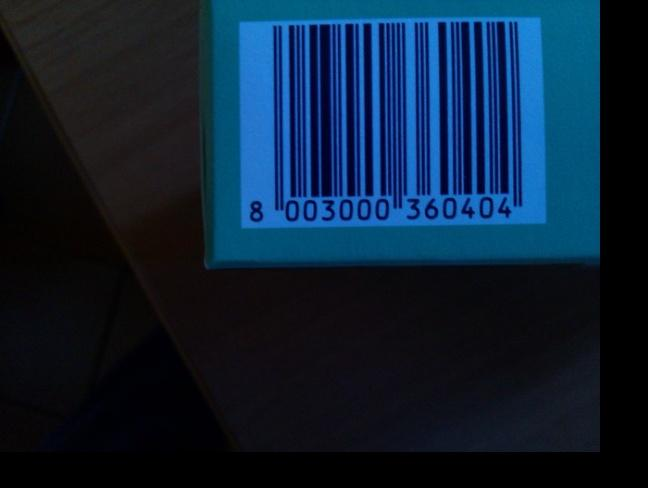Barcode: (238, 17, 547, 228)
